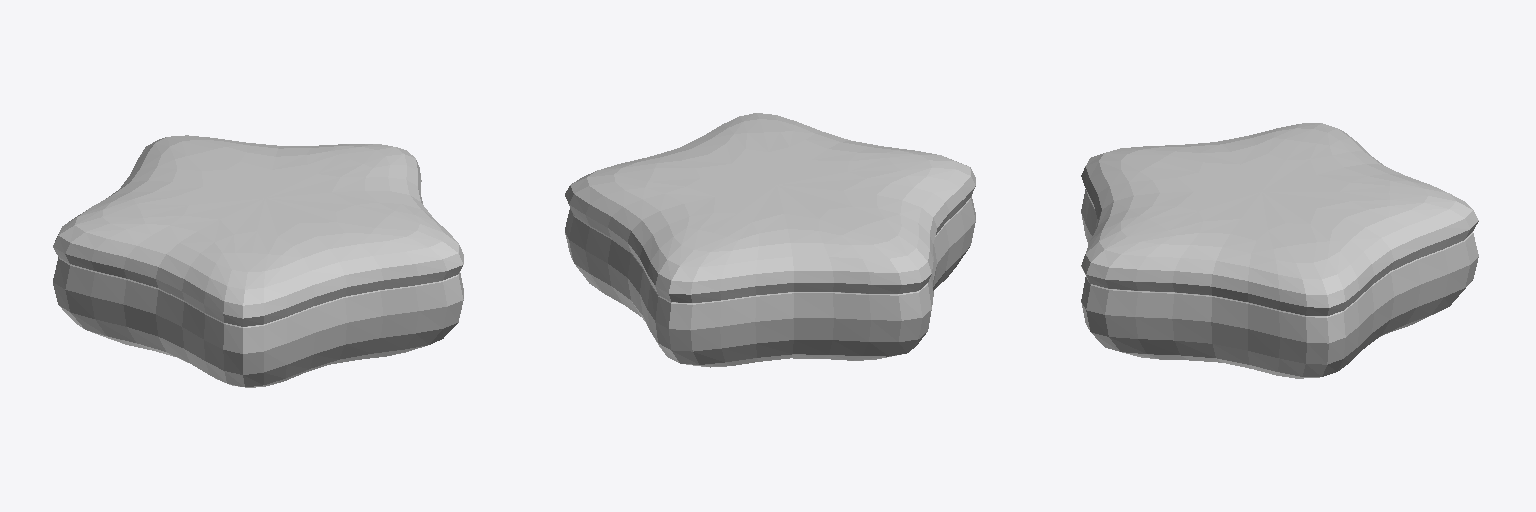
File: Starcake Revised.obj
3 renders of one model, left to right at view 1: azimuth 30°, elevation 25°; view 2: azimuth 150°, elevation 25°; view 3: azimuth 270°, elevation 25°, orthographic.
Visible parts, largest first — view 1: Starcake; view 2: Starcake; view 3: Starcake.
Part boxes in pixels (left/top/right/bottom): Starcake: left=53, top=135, right=463, bottom=387; Starcake: left=565, top=113, right=975, bottom=367; Starcake: left=1081, top=123, right=1478, bottom=378.
Size of the model in its own units: 1.47 by 0.5066 by 1.42.